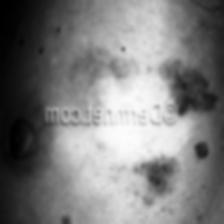Potentially Malignant Skin Tumors: (140, 156, 180, 196), (178, 74, 203, 113)
